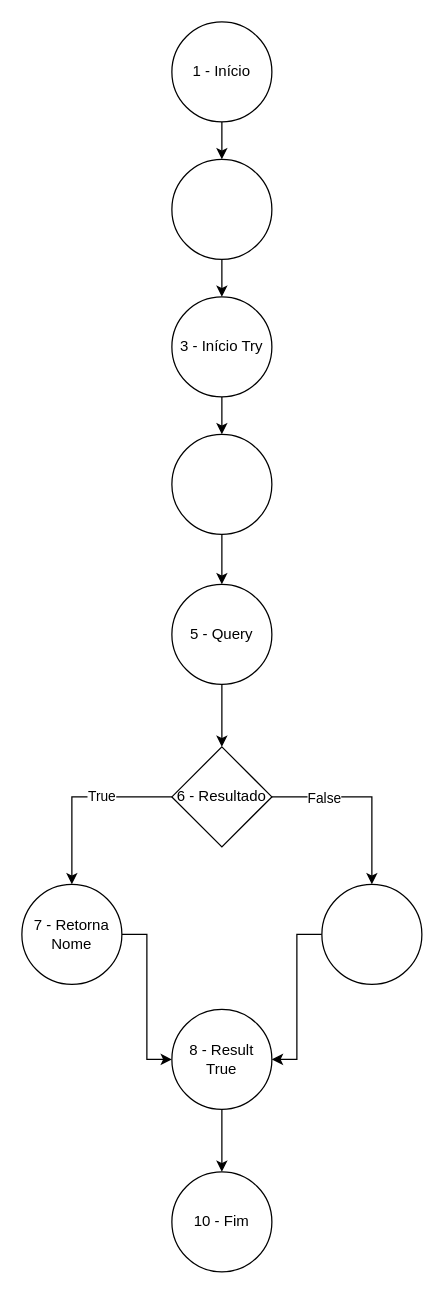
This 444x1294 diagram has some shape labels left out. The box of each missing label's shape, as (x1, y1, x2, y2) in pixels:
2 - Chamada Conexão: (171, 158, 272, 259)
4 - SQL: (171, 433, 272, 534)
9 - Retorno Falso: (321, 883, 422, 984)
